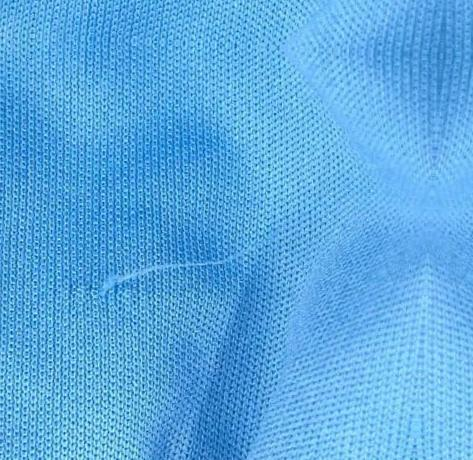snag: (86, 240, 267, 310)
